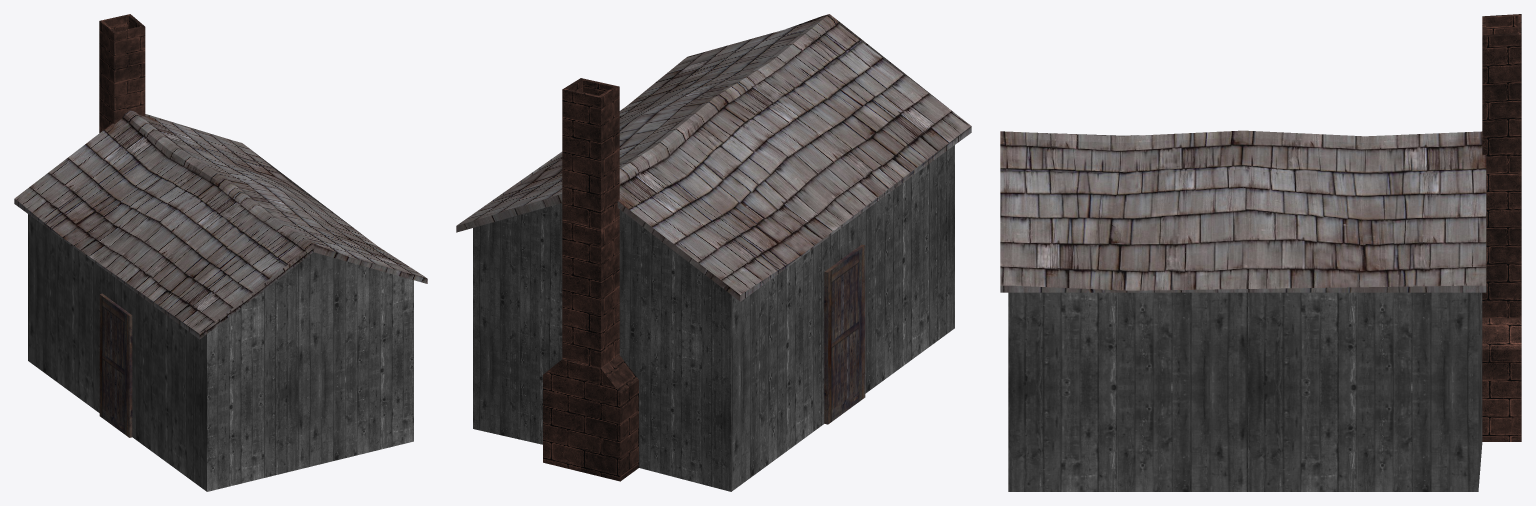
File: medieval_house.gltf
3 renders of one model, left to right at view 1: azimuth 30°, elevation 25°; view 2: azimuth 150°, elevation 25°; view 3: azimuth 270°, elevation 25°, orthographic. The views are drawn at different scales.
Parts seen in each view (by area): view 1: medieval_timber_house; view 2: medieval_timber_house; view 3: medieval_timber_house.
Part boxes in pixels (bbox=[...]): medieval_timber_house: bbox=[14, 14, 427, 491]; medieval_timber_house: bbox=[456, 14, 971, 491]; medieval_timber_house: bbox=[1000, 14, 1521, 491].
Bounding box in the file's own units: 4.4 × 5.66 × 6.65.
1 material, 1 textured.
